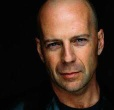male: (32, 7, 107, 94)
